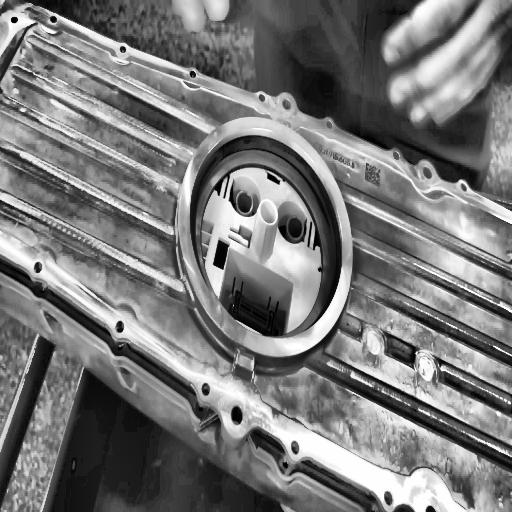bms_unit: (0, 0, 512, 512)
connector: (177, 118, 356, 359)
